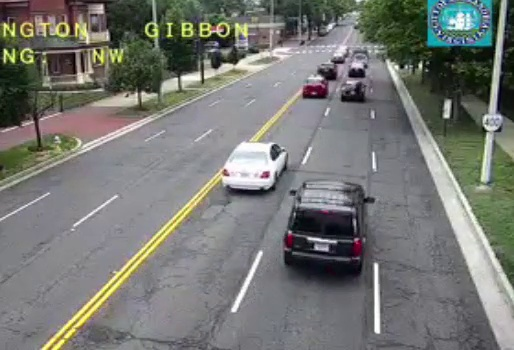car: (285, 181, 365, 271), (221, 142, 288, 189), (340, 82, 365, 101), (303, 79, 327, 98), (317, 63, 337, 80)
